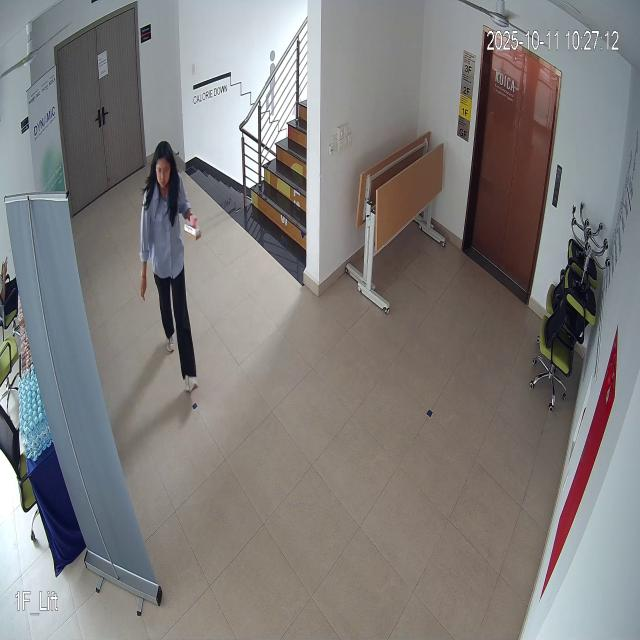face: (149, 136, 179, 203)
